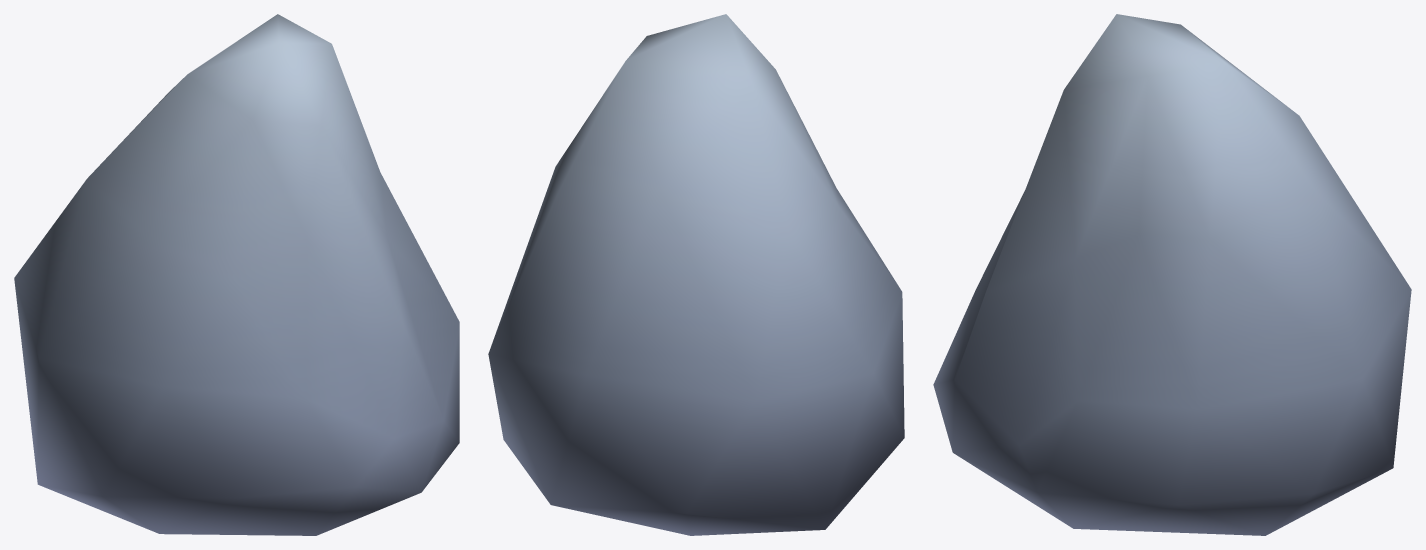
File: rock-2.fbx
The picture shows the model from 3 angles, left to right: view 1: azimuth 30°, elevation 25°; view 2: azimuth 150°, elevation 25°; view 3: azimuth 270°, elevation 25°; orthographic projection. The views are drawn at different scales.
Visible parts, largest first — view 1: rock-2; view 2: rock-2; view 3: rock-2.
Boxes of the visible parts, x1,y1,x2,y2 form: rock-2: [14, 14, 459, 535]; rock-2: [488, 14, 904, 535]; rock-2: [933, 14, 1411, 535].
Bounding box in the file's own units: 24.44 × 29.91 × 26.71.
